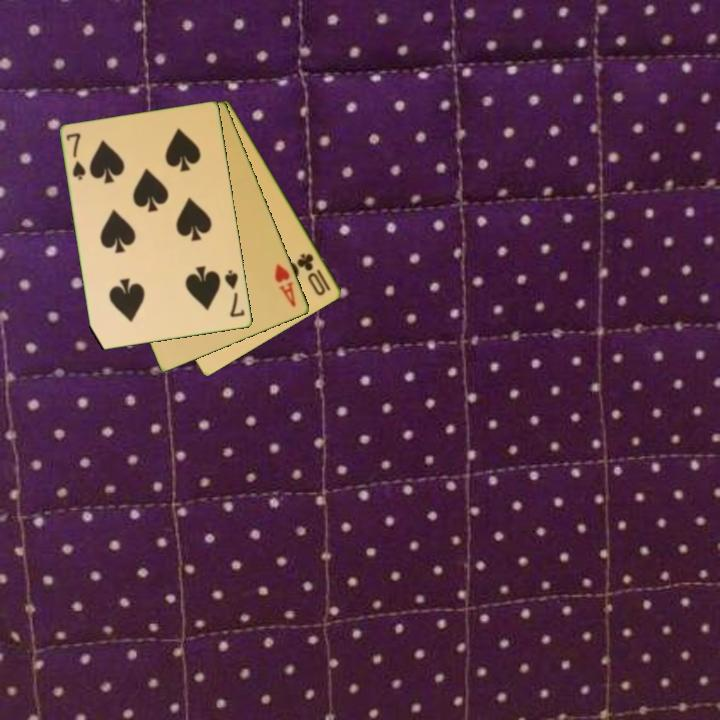10c: (294, 250, 334, 299)
7s: (221, 266, 248, 320), (63, 130, 89, 183)
Ah: (271, 260, 299, 310)
